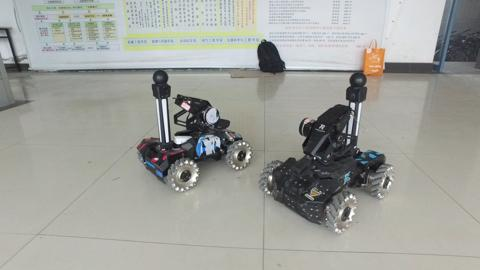chariot: (259, 71, 398, 240), (121, 67, 251, 202)
